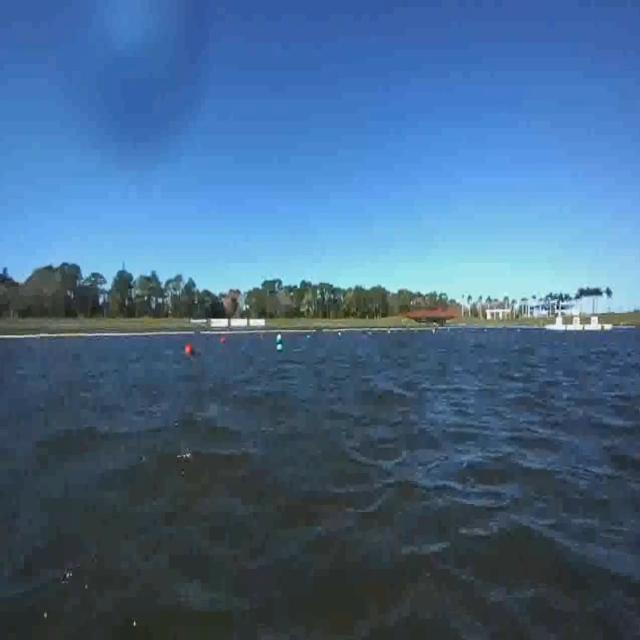green-buoy: (276, 330, 284, 344), (276, 343, 284, 352)
red-buoy: (185, 344, 192, 355)
